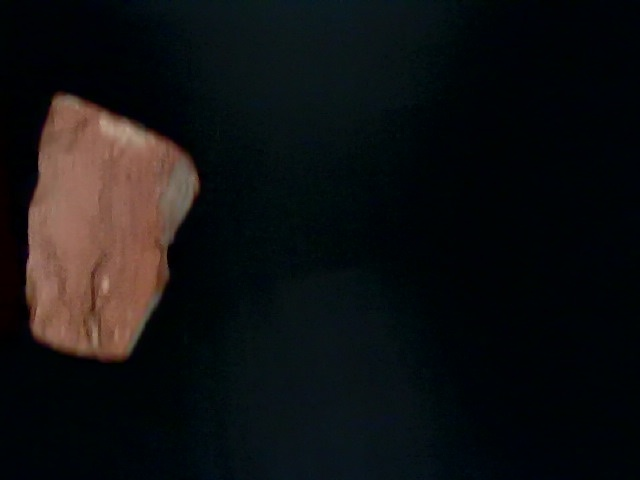KHSLJ: (17, 89, 333, 406)
